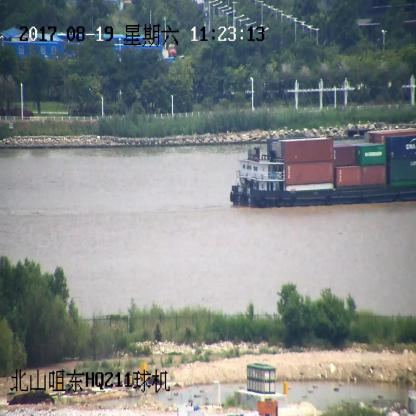Container Ship: (229, 131, 416, 205)
